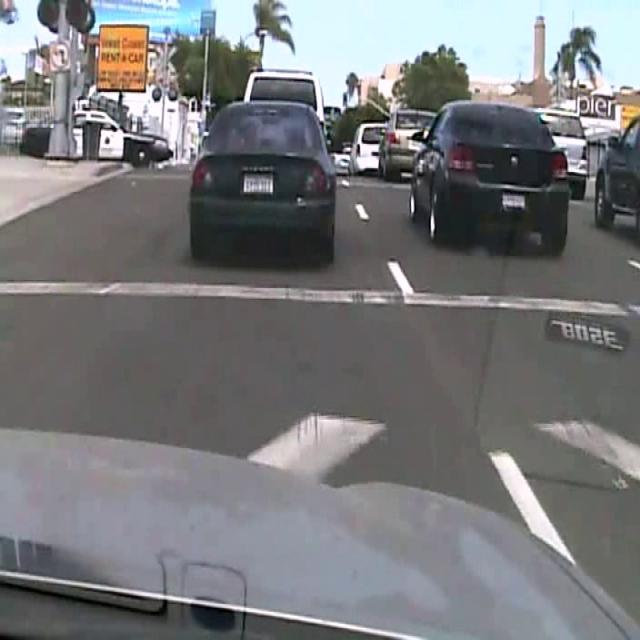noLeftTurn: (47, 38, 71, 70)
